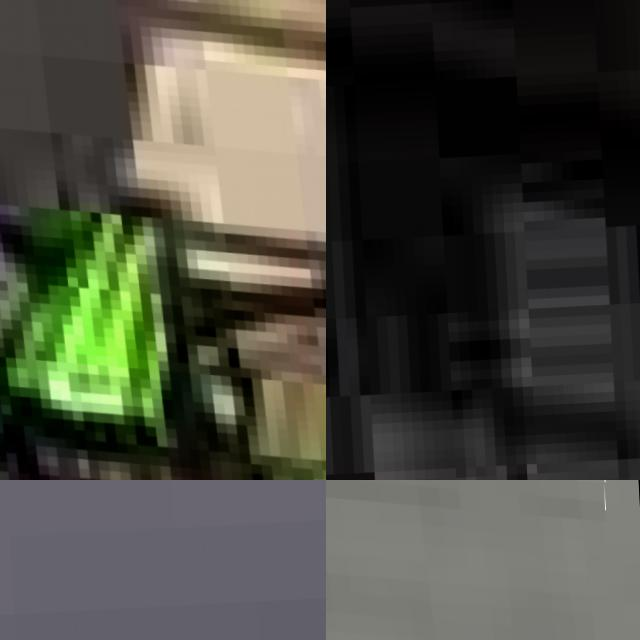drone: (0, 0, 326, 480), (326, 480, 628, 640)
